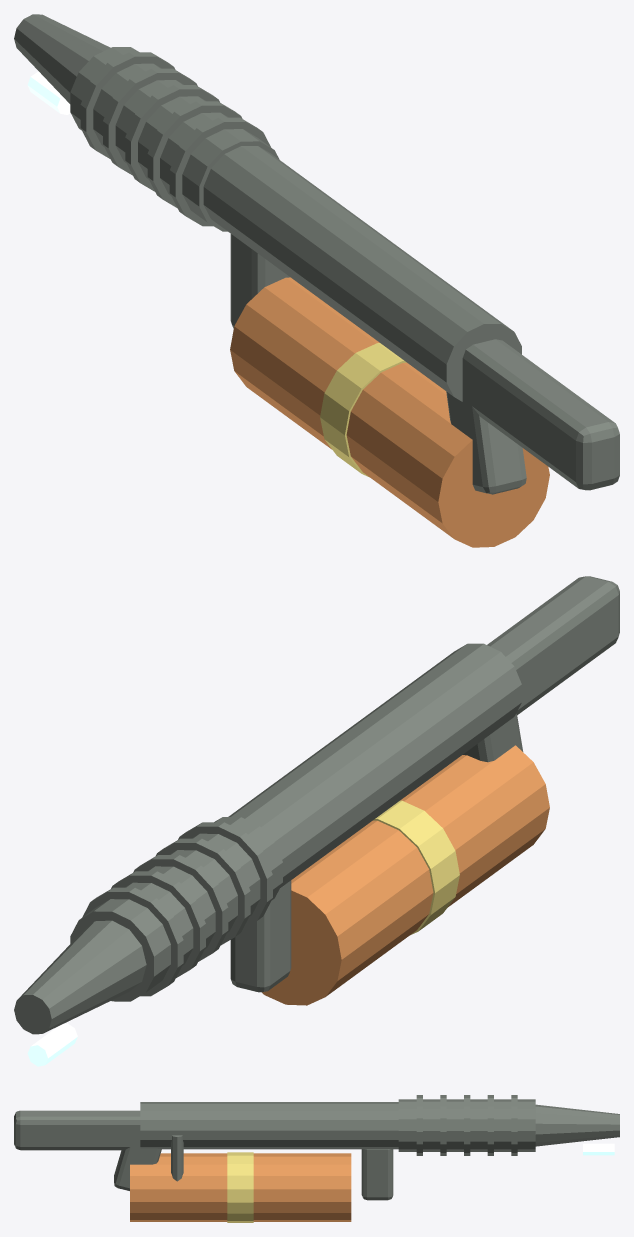
File: flamer.glb
3 views of the same model, one above another, from view 1: azimuth 30°, elevation 25°; view 2: azimuth 150°, elevation 25°; view 3: azimuth 270°, elevation 25° (orthographic). The views are drawn at different scales.
Visible parts, largest first — view 1: Tank, Body, Stock, Shroud, Grip, Nozzle, TankStripe, FrontGrip, Fin0, Fin4, Fin3, Fin2 (+2 smaller); view 2: Tank, Body, Shroud, Stock, Nozzle, FrontGrip, TankStripe, Fin4, Fin2, Fin1, Fin0, Fin3 (+2 smaller); view 3: Tank, Body, Shroud, Stock, Nozzle, TankStripe, FrontGrip, Grip, Hose, Fin0, Fin1, Fin2 (+3 smaller).
Part boxes in pixels (box(x1,y1,x2,y2)): Tank: box(230, 277, 549, 547); Body: box(203, 146, 521, 401); Stock: box(462, 339, 619, 490); Shroud: box(70, 47, 279, 231); Grip: box(446, 371, 526, 494); Nozzle: box(14, 14, 110, 103); TankStripe: box(320, 343, 406, 477); FrontGrip: box(230, 234, 289, 328); Fin0: box(169, 117, 270, 226); Fin4: box(80, 52, 175, 158); Fin3: box(103, 68, 197, 175); Fin2: box(125, 85, 219, 191); Tank: box(262, 745, 549, 1005); Body: box(228, 643, 521, 887); Shroud: box(70, 817, 282, 1001); Stock: box(487, 576, 619, 714); Nozzle: box(14, 920, 146, 1034); FrontGrip: box(230, 880, 291, 992); TankStripe: box(373, 800, 459, 934); Fin4: box(82, 887, 183, 996); Fin2: box(133, 855, 228, 961); Fin1: box(156, 838, 250, 945); Fin0: box(178, 822, 272, 928); Fin3: box(111, 871, 205, 977); Tank: box(130, 1153, 351, 1221); Body: box(140, 1102, 398, 1149); Shroud: box(398, 1099, 535, 1151); Stock: box(14, 1110, 140, 1150); Nozzle: box(535, 1104, 619, 1146); TankStripe: box(227, 1152, 253, 1222); FrontGrip: box(361, 1149, 393, 1200); Grip: box(114, 1130, 161, 1190); Hose: box(171, 1135, 183, 1181); Fin0: box(416, 1095, 422, 1155); Fin1: box(440, 1095, 446, 1155); Fin2: box(464, 1095, 470, 1155).
Bounding box in the file's own units: 0.134 × 0.255 × 1.15.
